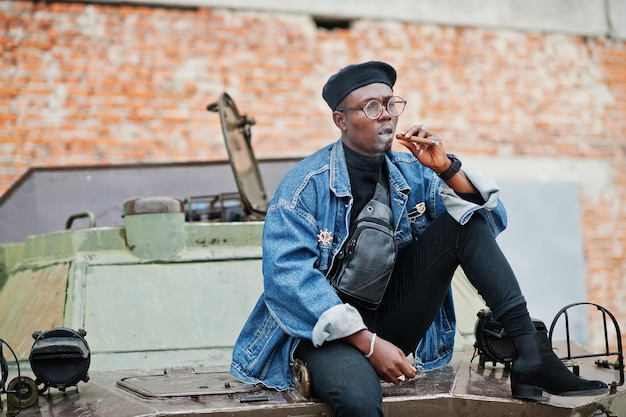cigarette: (396, 131, 439, 146)
